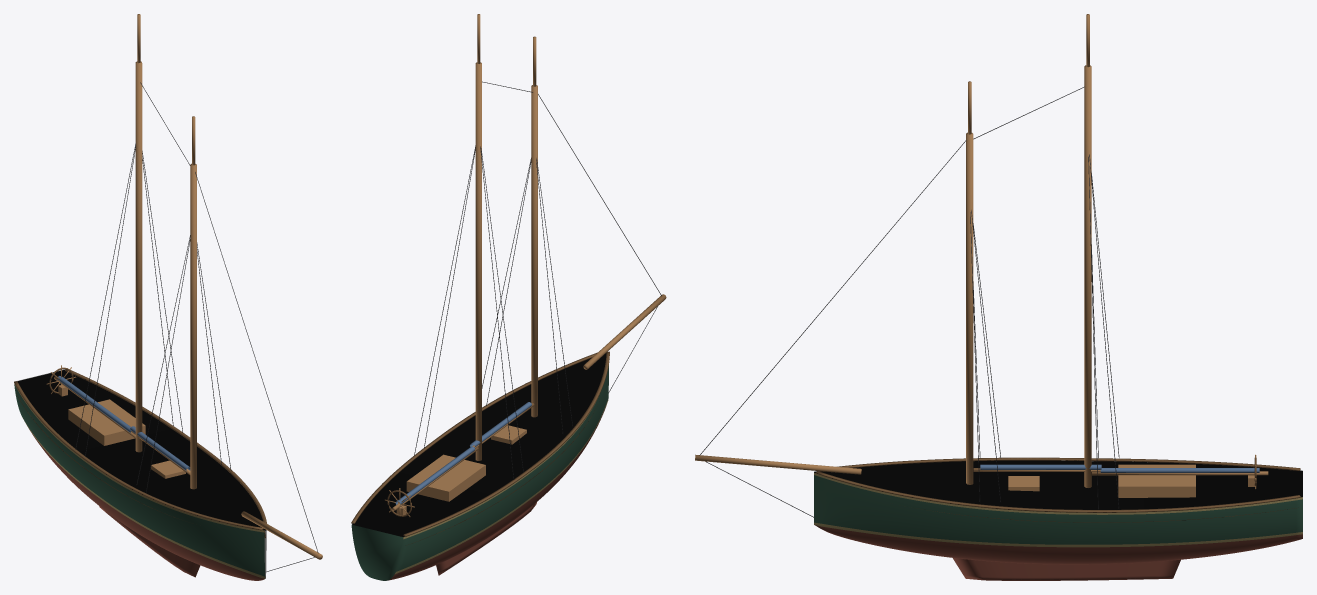
File: schooner.glb
3 renders of one model, left to right at view 1: azimuth 30°, elevation 25°; view 2: azimuth 150°, elevation 25°; view 3: azimuth 270°, elevation 25°, orthographic. The views are drawn at different scales.
Visible parts, largest first — view 1: WaterMask, Hull, Mast.001, Mast, Deckhouse, CapRail.001, CapRail, Keel, Bowsprit, FurledSail.001, Forestay, Skylight; view 2: WaterMask, Hull, Mast.001, Mast, Deckhouse, CapRail.001, CapRail, Keel, Bowsprit, FurledSail.001, Skylight; view 3: Hull, WaterMask, Keel, Mast.001, Mast, Deckhouse, CapRail, CapRail.001, Bowsprit, FurledSail.001.
Boxes of the visible parts, x1,y1,x2,y2 form: WaterMask: (17, 370, 266, 530); Hull: (14, 384, 265, 580); Mast.001: (135, 61, 142, 452); Mast: (190, 163, 196, 489); Deckhouse: (68, 399, 145, 445); CapRail.001: (14, 381, 263, 530); CapRail: (65, 369, 266, 523); Keel: (99, 506, 200, 577); Bowsprit: (241, 511, 322, 559); FurledSail.001: (57, 376, 130, 432); Forestay: (195, 172, 318, 553); Skylight: (151, 460, 185, 478); WaterMask: (352, 353, 606, 537); Hull: (351, 365, 608, 580); Mast.001: (475, 62, 481, 460); Mast: (531, 85, 537, 417); Deckhouse: (406, 454, 485, 501); CapRail.001: (403, 351, 609, 536); CapRail: (351, 352, 597, 523); Keel: (436, 502, 536, 575); Bowsprit: (583, 294, 666, 369); FurledSail.001: (395, 446, 475, 504); Skylight: (491, 425, 526, 444); Hull: (814, 472, 1302, 564); WaterMask: (814, 460, 1302, 509); Keel: (953, 558, 1180, 580); Mast.001: (1084, 65, 1091, 487); Mast: (966, 132, 973, 484); Deckhouse: (1118, 464, 1195, 497); CapRail: (816, 471, 1300, 512); CapRail.001: (817, 457, 1300, 471); Bowsprit: (695, 454, 861, 474); FurledSail.001: (1100, 468, 1259, 472).
Size of the model in its own units: 4.86 by 23.99 by 23.44.
Materials: 10 (1 with a texture image).
